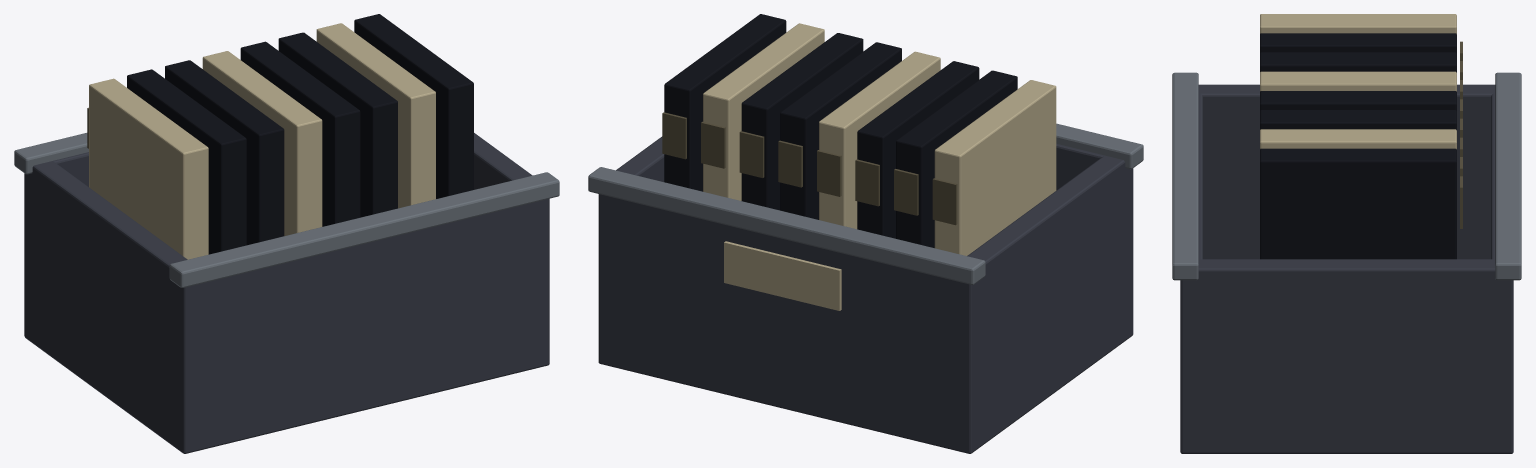
The model's file is plastic_bin_cassettes.glb.
3 renders of one model, left to right at view 1: azimuth 30°, elevation 25°; view 2: azimuth 150°, elevation 25°; view 3: azimuth 270°, elevation 25°, orthographic. The views are drawn at different scales.
Parts seen in each view (by area): view 1: plastic_bin_cassettes; view 2: plastic_bin_cassettes; view 3: plastic_bin_cassettes.
Part boxes in pixels (x1,y1,x2,y2): plastic_bin_cassettes: (14, 14, 559, 453); plastic_bin_cassettes: (588, 14, 1143, 453); plastic_bin_cassettes: (1172, 14, 1521, 453).
Size of the model in its own units: 0.6 by 0.4 by 0.461.
